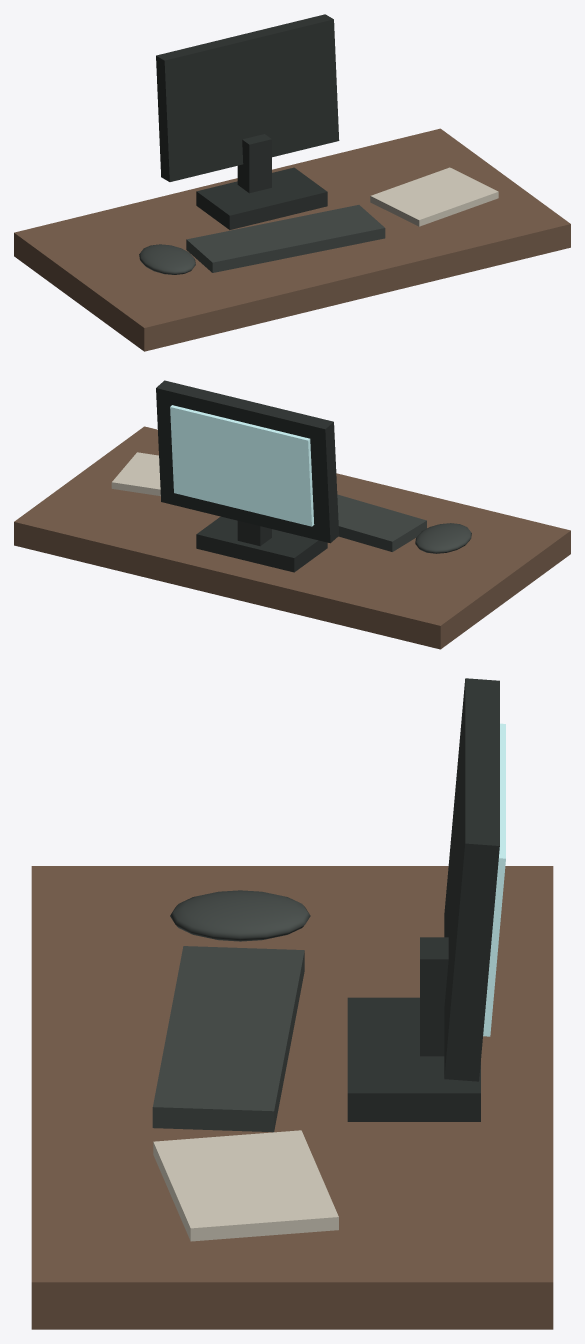
Rendered from study-computer.glb.
3 views of the same model, one above another, from view 1: azimuth 30°, elevation 25°; view 2: azimuth 150°, elevation 25°; view 3: azimuth 270°, elevation 25° (orthographic). The views are drawn at different scales.
Parts seen in each view (by area): view 1: wooden-desk-pad, monitor-frame, keyboard, monitor-base, notebook, monitor-neck, mouse; view 2: wooden-desk-pad, monitor-screen, monitor-frame, monitor-base, keyboard, notebook, mouse, monitor-neck; view 3: wooden-desk-pad, keyboard, monitor-frame, notebook, monitor-base, mouse, monitor-neck, monitor-screen.
Part boxes in pixels (left/top/right/bottom): wooden-desk-pad: left=14, top=128, right=570, bottom=351; monitor-frame: left=156, top=14, right=339, bottom=181; keyboard: left=186, top=205, right=385, bottom=272; monitor-base: left=196, top=167, right=327, bottom=229; notebook: left=370, top=167, right=498, bottom=226; monitor-neck: left=237, top=134, right=271, bottom=193; mouse: left=139, top=244, right=195, bottom=274; wooden-desk-pad: left=14, top=426, right=570, bottom=649; monitor-screen: left=170, top=405, right=314, bottom=526; monitor-frame: left=156, top=380, right=339, bottom=543; monitor-base: left=196, top=516, right=327, bottom=572; keyboard: left=337, top=494, right=426, bottom=551; notebook: left=111, top=452, right=160, bottom=496; mouse: left=415, top=523, right=471, bottom=553; monitor-neck: left=237, top=521, right=271, bottom=546; wooden-desk-pad: left=31, top=866, right=553, bottom=1329; keyboard: left=152, top=946, right=304, bottom=1132; monitor-frame: left=444, top=678, right=499, bottom=1081; notebook: left=153, top=1130, right=338, bottom=1241; monitor-base: left=347, top=997, right=480, bottom=1121; mouse: left=170, top=890, right=310, bottom=941; monitor-neck: left=420, top=937, right=448, bottom=1056; monitor-screen: left=483, top=723, right=505, bottom=1036.
Bounding box in the file's own units: 3.4 × 1.37 × 1.8.
